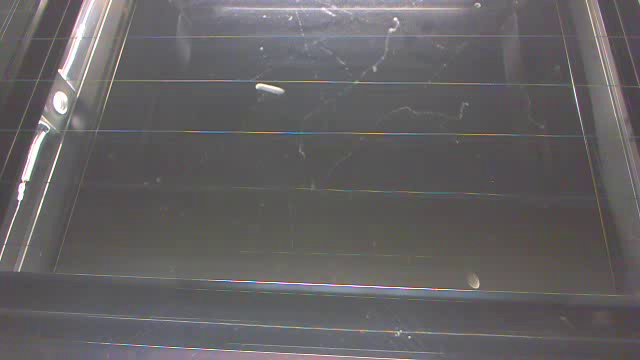alpha: (253, 77, 285, 100), (466, 270, 485, 298), (466, 276, 482, 290), (460, 267, 472, 270)
